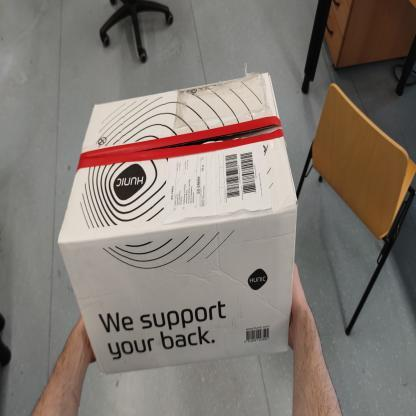-: (56, 69, 311, 375)
